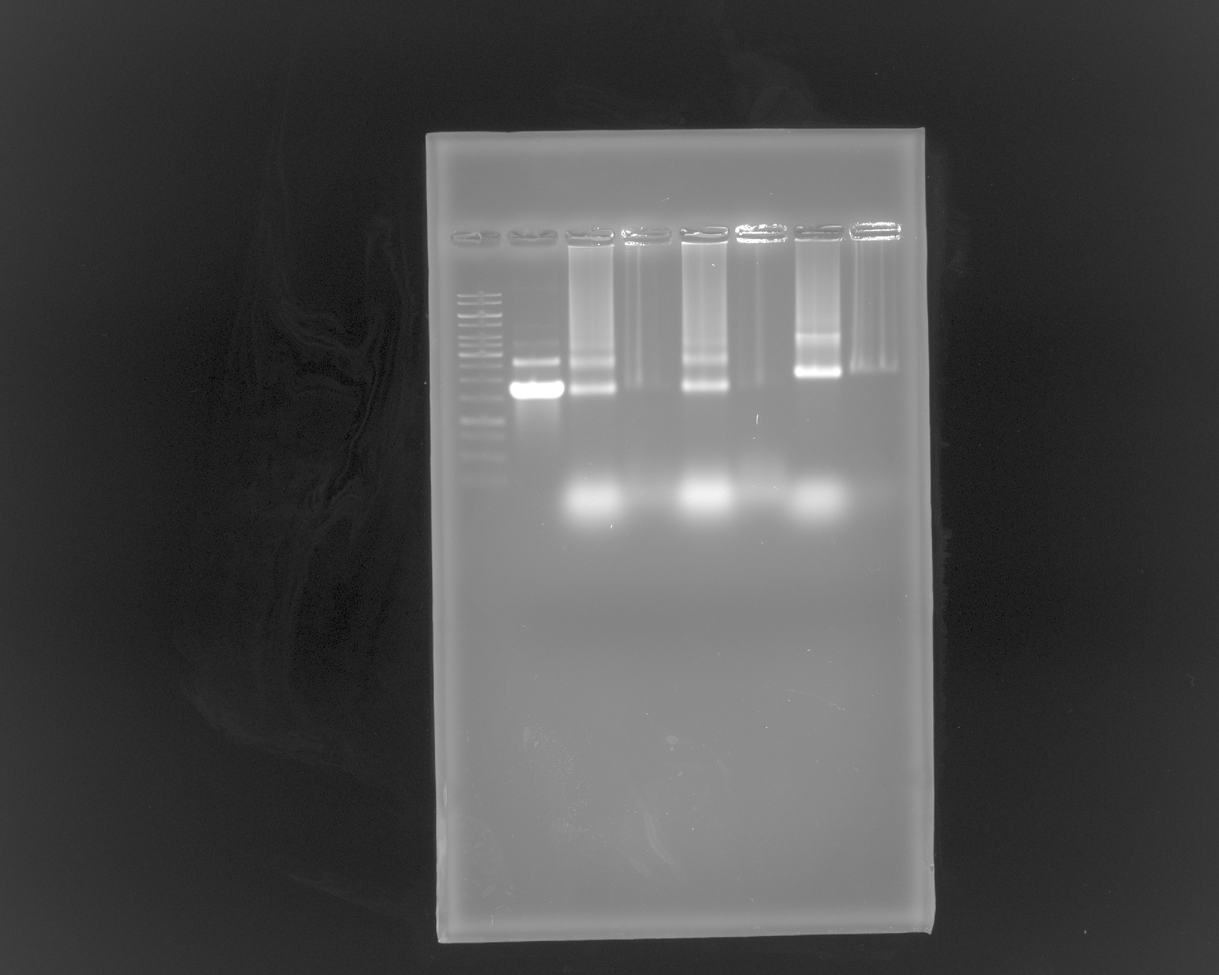Lane: (671, 229, 732, 929), (511, 213, 568, 949), (847, 222, 906, 925), (730, 224, 783, 926), (613, 218, 663, 932), (795, 218, 843, 923), (565, 222, 611, 932)
ladder: (451, 211, 501, 932)
